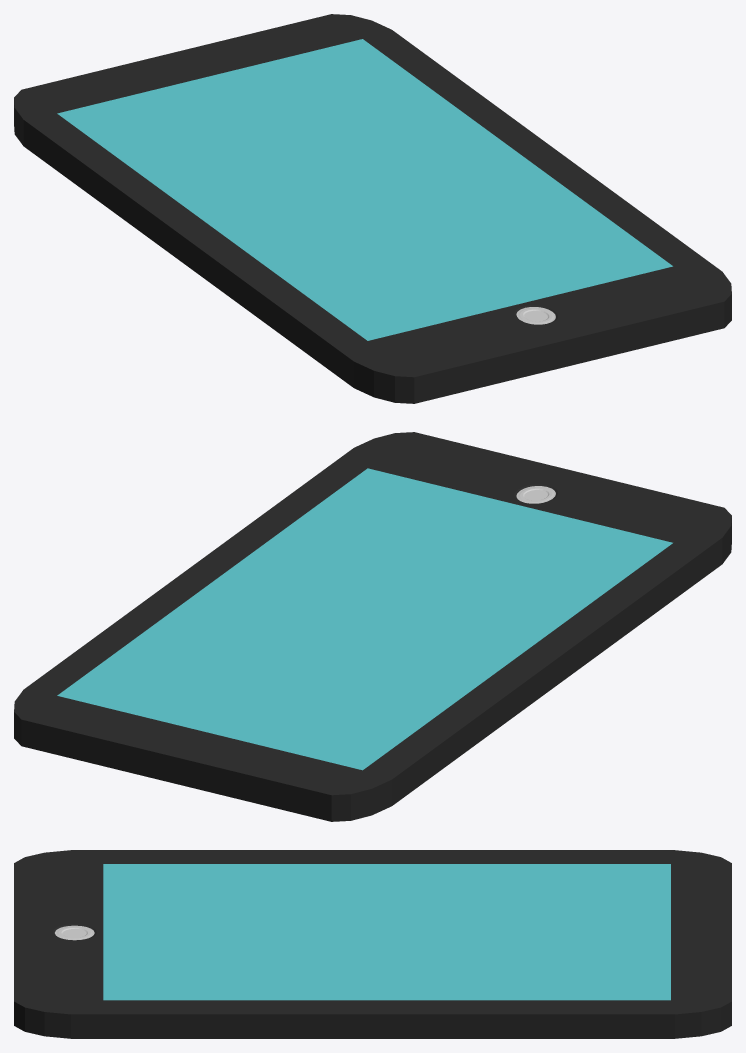
Rendered from 009. Prop Phone.fbx.
3 renders of one model, top to bottom at view 1: azimuth 30°, elevation 25°; view 2: azimuth 150°, elevation 25°; view 3: azimuth 270°, elevation 25°, orthographic. The views are drawn at different scales.
Visible parts, largest first — view 1: Cube; view 2: Cube; view 3: Cube.
Boxes of the visible parts, <box> form: Cube: <box>14,14,731,403</box>; Cube: <box>14,432,731,821</box>; Cube: <box>14,850,731,1038</box>.
Bounding box in the file's own units: 100 × 6.93 × 185.
